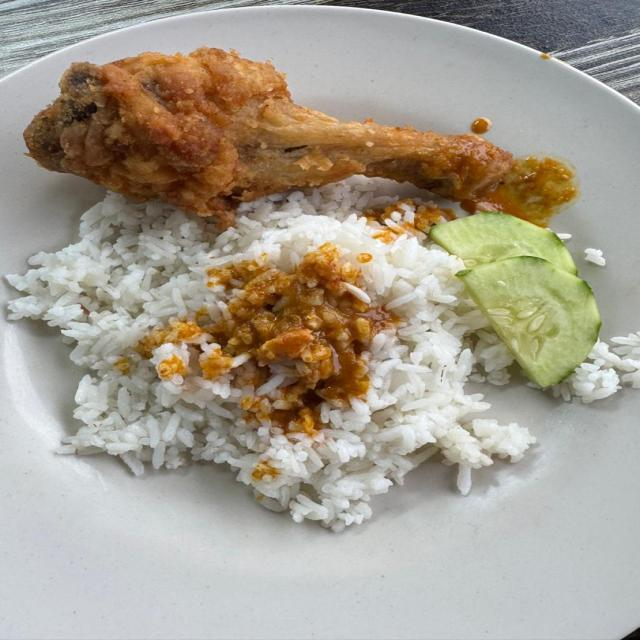Chicken: (22, 48, 518, 226)
Plate: (0, 314, 639, 639)
Rice: (8, 181, 639, 535)
Vegetables: (438, 215, 610, 386)
